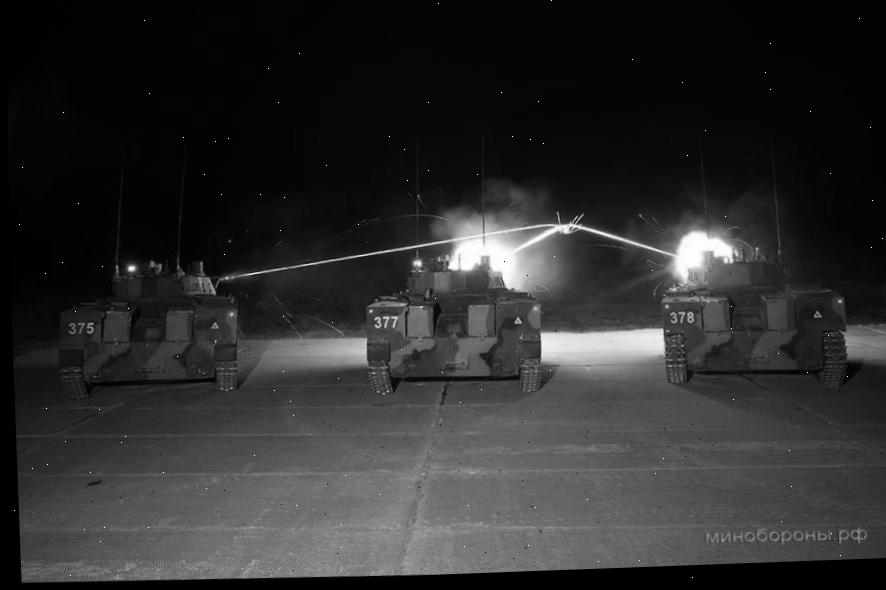tank: (657, 238, 851, 397), (53, 253, 246, 403), (359, 249, 547, 399)
